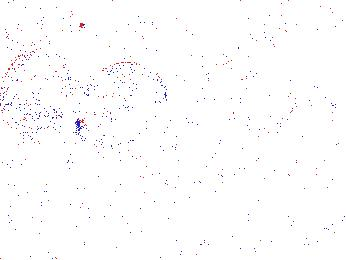moon jellyfish: (235, 37, 306, 137), (1, 49, 72, 133), (281, 37, 346, 120), (74, 105, 150, 153), (85, 61, 168, 102)
